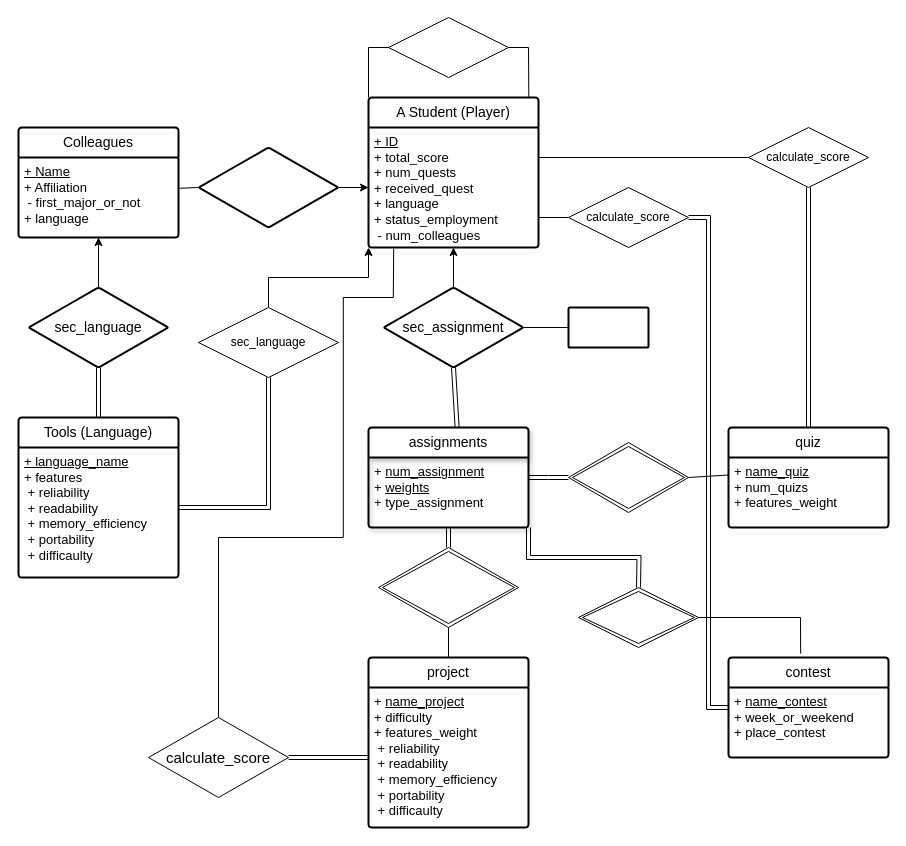
This 906x846 diagram has some shape labels left out. The centre of each missing label's shape, as x and y in pixels:
basic_score: (608,327)
check_remain: (448,47)
sec_colleagues: (268,187)
sec_contest: (638,617)
sec_project: (448,587)
sec_quiz: (628,477)
